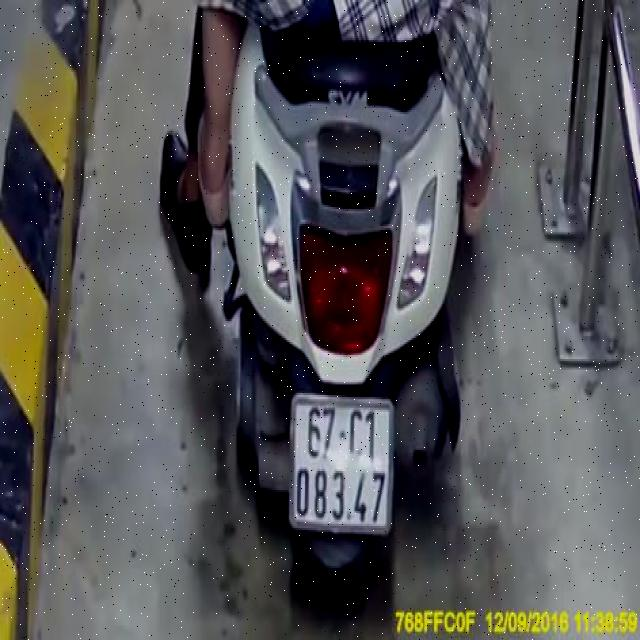0: (294, 467, 311, 519)
1: (364, 408, 376, 463)
3: (331, 470, 346, 527)
4: (354, 471, 369, 524)
6: (307, 403, 320, 457)
7: (372, 470, 388, 528), (322, 405, 338, 459)
8: (312, 469, 330, 519)
C: (349, 407, 365, 462)
